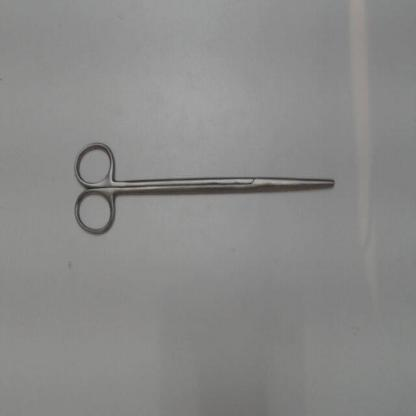9 Metzenbaum Scissors: (69, 134, 338, 240)
